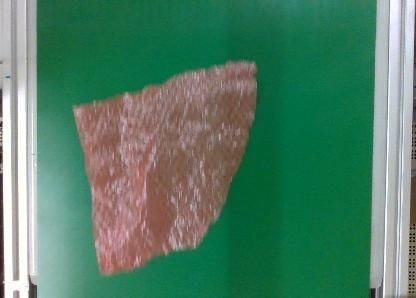Others: (68, 59, 258, 280)
